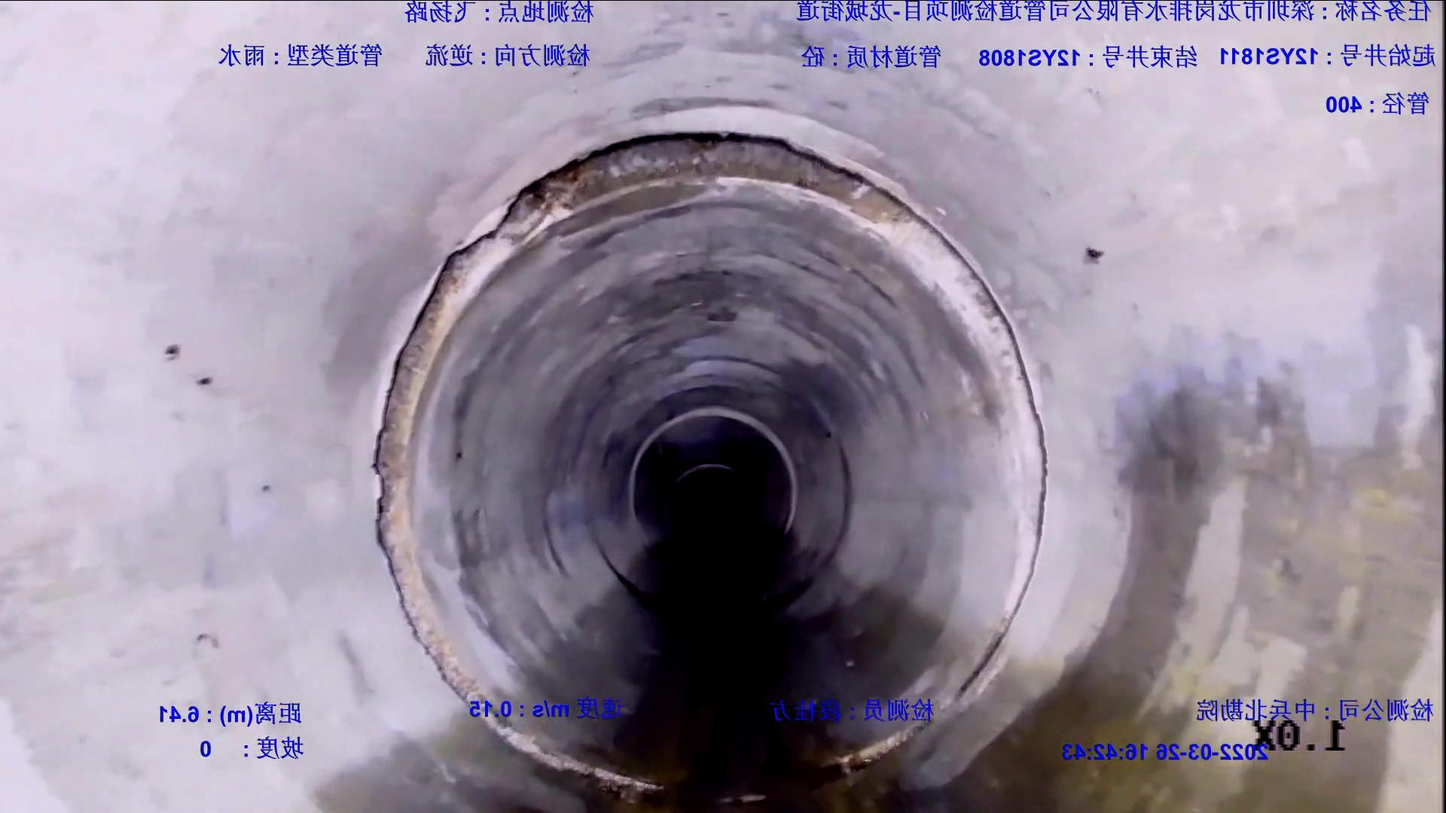CKTJ: (374, 134, 1048, 707), (629, 406, 798, 527)
